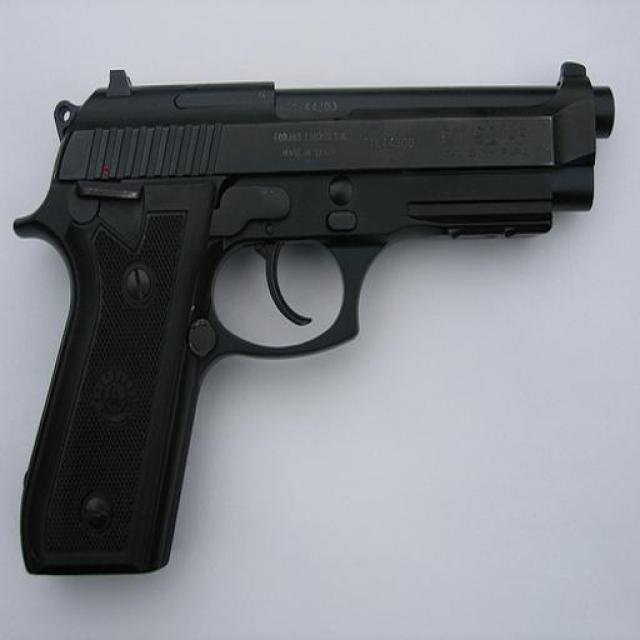pistol: (15, 61, 616, 576)
